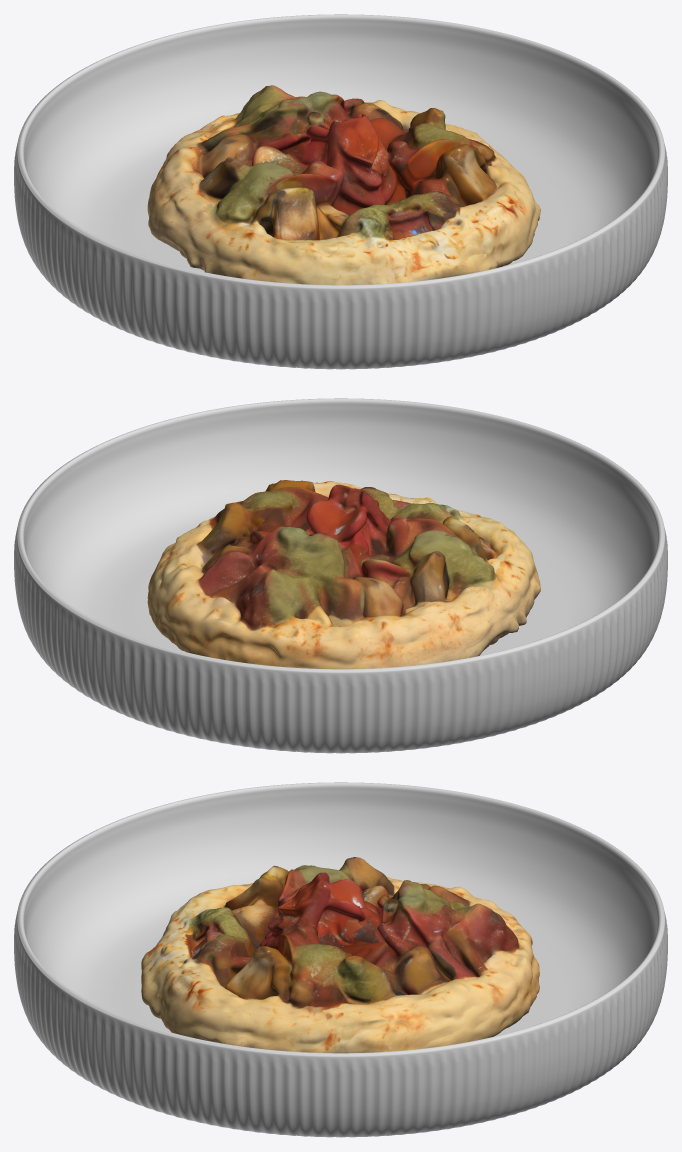
File: food_in_reference_white_bowl_12MB.glb
The picture shows the model from 3 angles, top to bottom: view 1: azimuth 30°, elevation 25°; view 2: azimuth 150°, elevation 25°; view 3: azimuth 270°, elevation 25°; orthographic projection.
Visible parts, largest first — view 1: White porcelain bowl, model; view 2: White porcelain bowl, model; view 3: White porcelain bowl, model.
Boxes of the visible parts, x1=… form: White porcelain bowl: x1=14, y1=14, x2=667, y2=369; model: x1=147, y1=85, x2=540, y2=285; White porcelain bowl: x1=14, y1=398, x2=667, y2=753; model: x1=147, y1=480, x2=540, y2=669; White porcelain bowl: x1=14, y1=782, x2=667, y2=1137; model: x1=141, y1=857, x2=539, y2=1053.
Bounding box in the file's own units: 3.09 × 0.742 × 3.09.
Materials: 2 (1 with a texture image).
